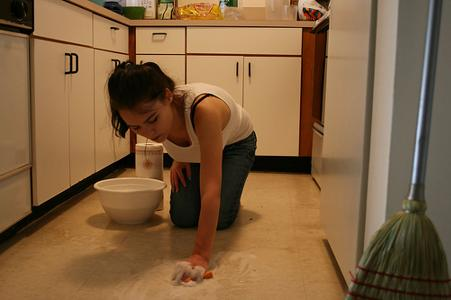person: (105, 61, 259, 288)
